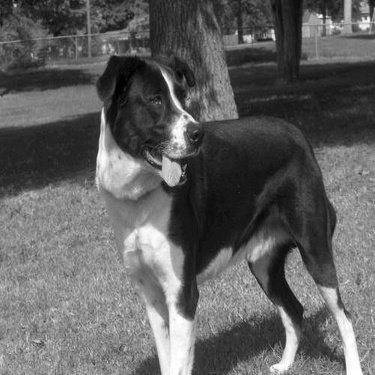dog: (89, 42, 365, 374)
